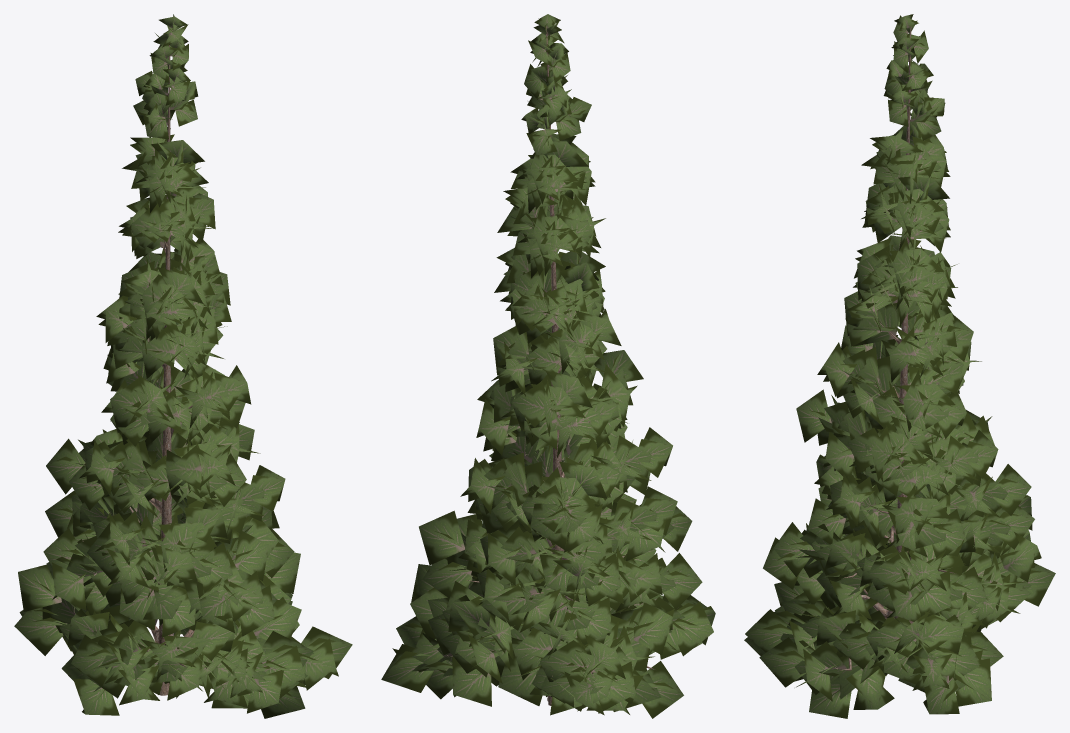
File: fir-05.gltf
3 views of the same model, side by side, from view 1: azimuth 30°, elevation 25°; view 2: azimuth 150°, elevation 25°; view 3: azimuth 270°, elevation 25° (orthographic). The views are drawn at different scales.
Parts seen in each view (by area): view 1: fir-05; view 2: fir-05; view 3: fir-05.
Boxes of the visible parts, left/top/right/bottom form: fir-05: left=14, top=14, right=352, bottom=718; fir-05: left=381, top=14, right=715, bottom=718; fir-05: left=744, top=14, right=1055, bottom=718.
Size of the model in its own units: 446 by 1090 by 461.
Materials: 2 (2 with a texture image).
